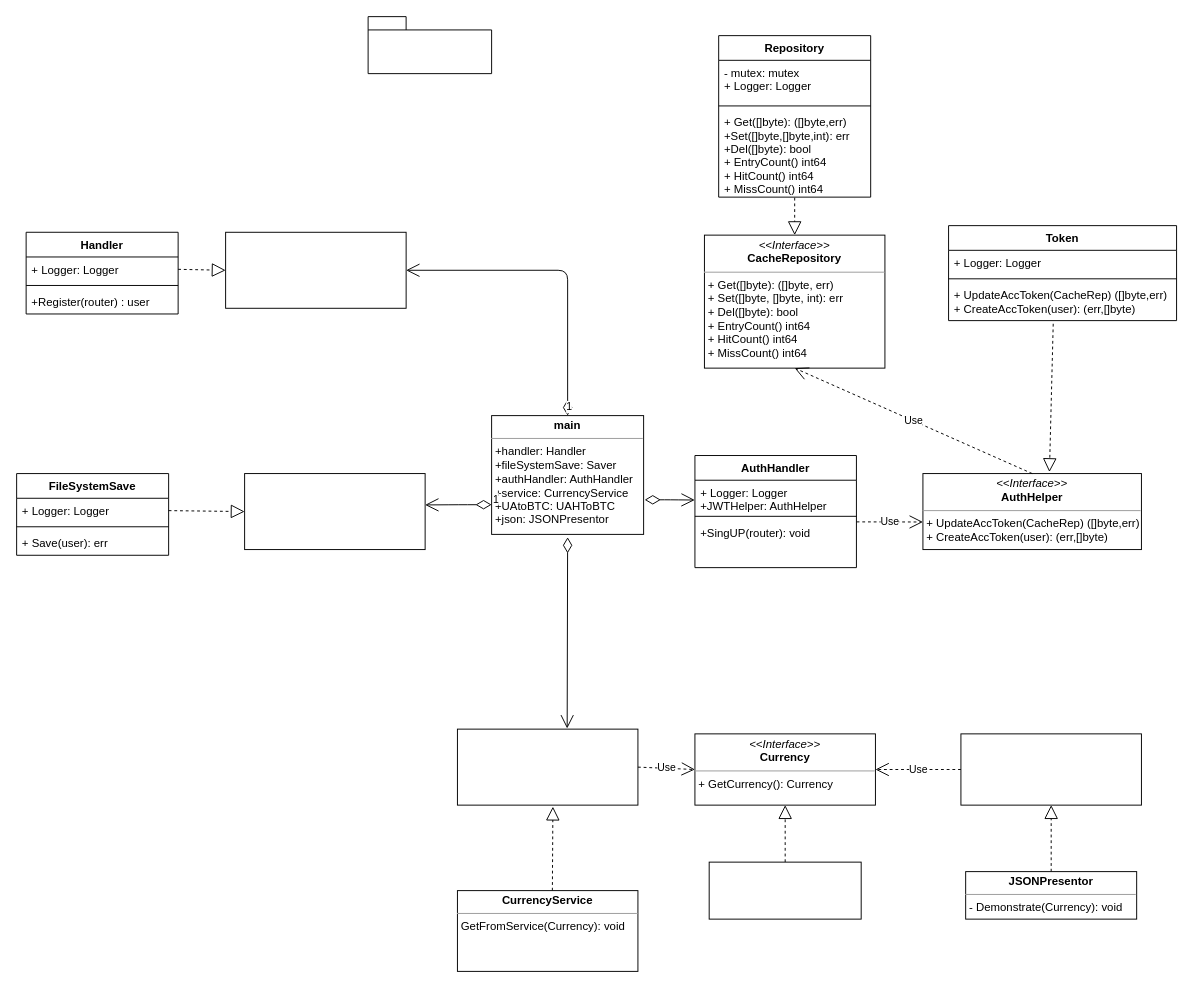
Image size: 1193x988. Some labels were removed from this diagram. The centre of each missing label's shape, as x and y in pixels:
<<Interface>> Presentor - Demonstrate(Currency): Type: point 1050,769
<<Interface>> RateSource + GetFromService(Currency): void: point 547,766
<<Interface>> RegisterHandler + Register(router): user: point 315,269
<<Interface>> Saver + Save(user): err: point 334,511
GetExchangeRate: point 429,45
UAHToBTC +getCurrency(): Currency: point 784,890
